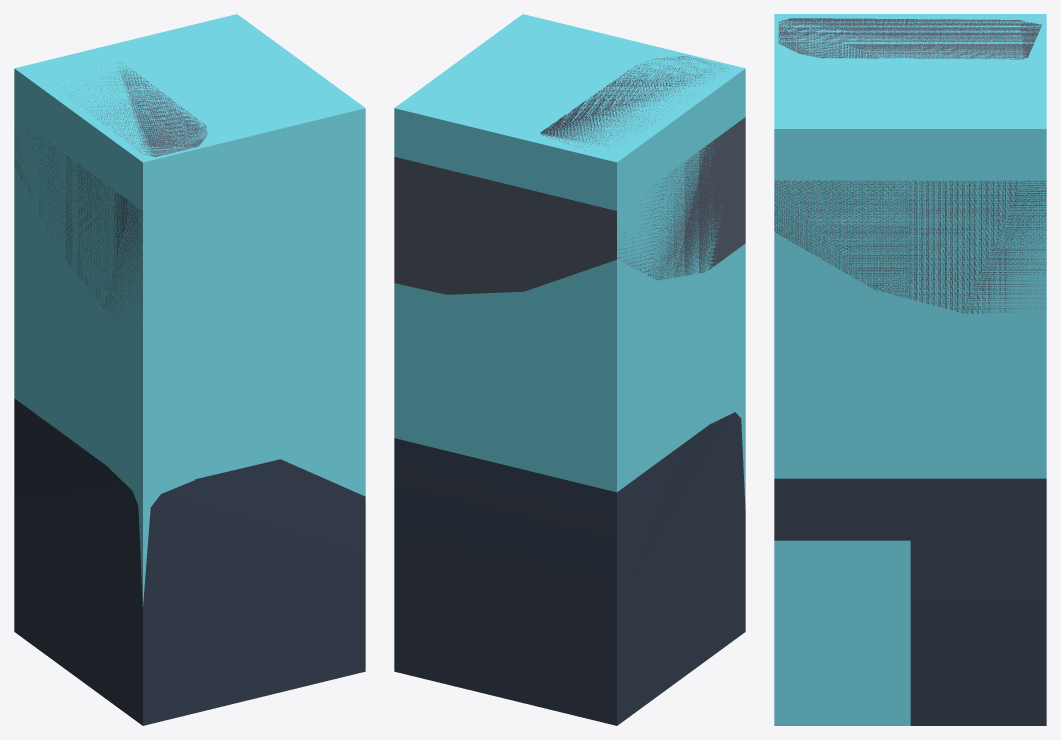
File: PBOX1_MudFlA_03.FBX
3 views of the same model, side by side, from view 1: azimuth 30°, elevation 25°; view 2: azimuth 150°, elevation 25°; view 3: azimuth 270°, elevation 25° (orthographic). The views are drawn at different scales.
Visible parts, largest first — view 1: PBOX1_MudFlA_03, PBOX1_SUB_TAB_MudFlA_003, PBOX1_SUB_MudFlA_008; view 2: PBOX1_MudFlA_03, PBOX1_SUB_TAB_MudFlA_003, PBOX1_SUB_MudFlA_008; view 3: PBOX1_MudFlA_03, PBOX1_SUB_TAB_MudFlA_003, PBOX1_SUB_MudFlA_008.
Boxes of the visible parts, bbox=[...] form: PBOX1_MudFlA_03: bbox=[14, 14, 365, 606]; PBOX1_SUB_TAB_MudFlA_003: bbox=[14, 398, 365, 725]; PBOX1_SUB_MudFlA_008: bbox=[14, 55, 207, 320]; PBOX1_MudFlA_03: bbox=[394, 14, 745, 509]; PBOX1_SUB_TAB_MudFlA_003: bbox=[394, 412, 745, 725]; PBOX1_SUB_MudFlA_008: bbox=[394, 56, 745, 294]; PBOX1_MudFlA_03: bbox=[774, 14, 1046, 725]; PBOX1_SUB_TAB_MudFlA_003: bbox=[774, 478, 1046, 725]; PBOX1_SUB_MudFlA_008: bbox=[774, 18, 1046, 313].
Bounding box in the file's own units: 6 × 14.5 × 6.
